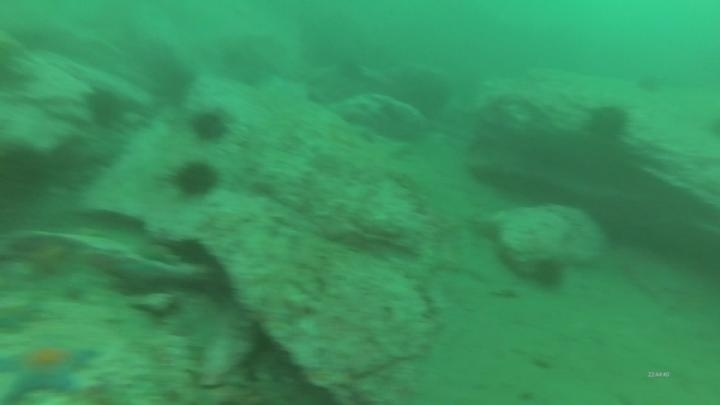echinus: (1, 140, 51, 207), (146, 58, 196, 107), (169, 158, 222, 201), (81, 84, 128, 131), (584, 102, 631, 143), (187, 106, 232, 145), (629, 60, 669, 101), (330, 51, 370, 92), (528, 255, 568, 295)
starfish: (1, 333, 102, 404)
